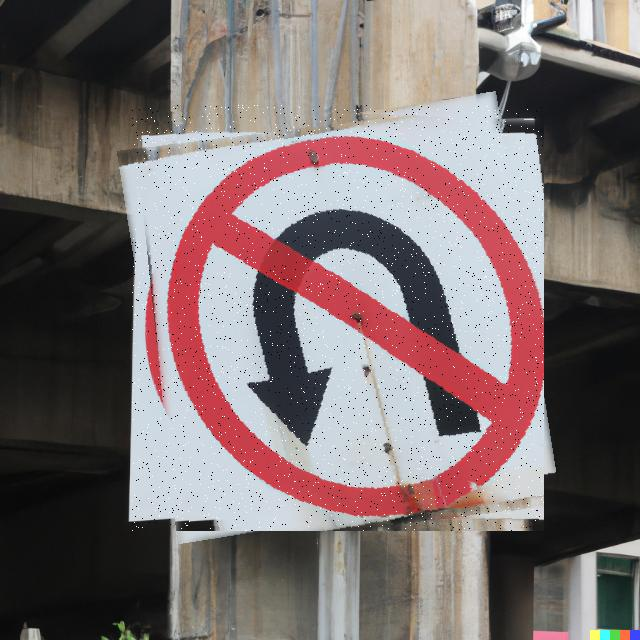no u turn: (132, 105, 544, 531)
